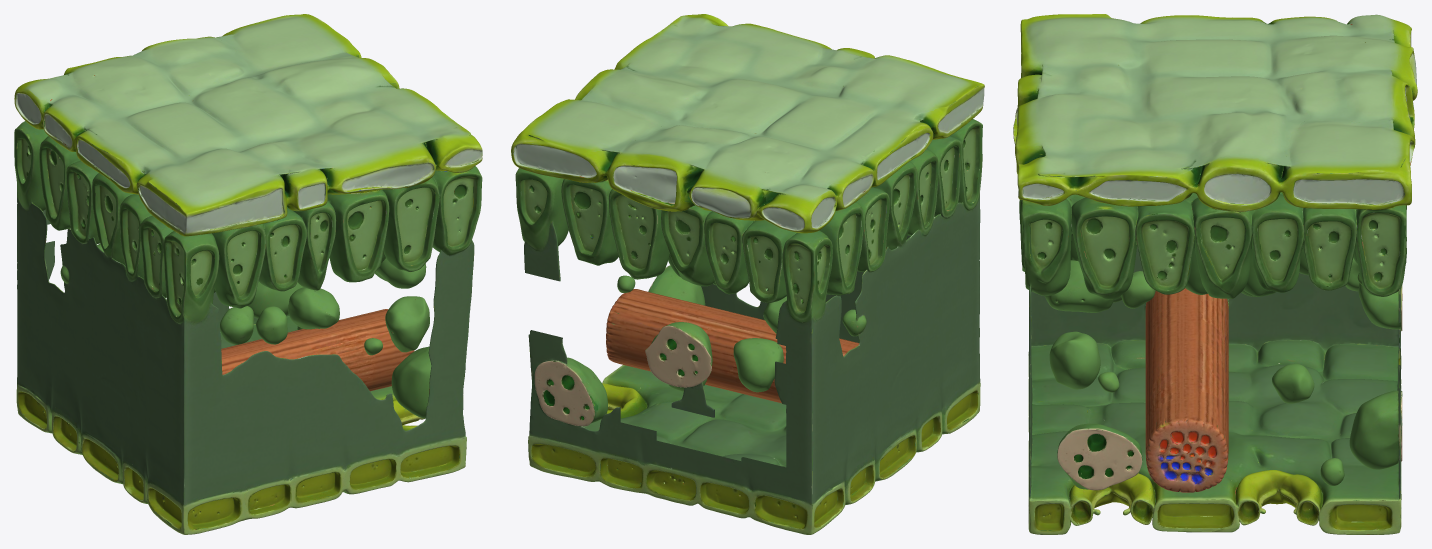
The model's file is Leaf Anatomy.glb.
The picture shows the model from 3 angles, left to right: view 1: azimuth 30°, elevation 25°; view 2: azimuth 150°, elevation 25°; view 3: azimuth 270°, elevation 25°; orthographic projection. The views are drawn at different scales.
Visible parts, largest first — view 1: tripo_part_0, tripo_part_1, tripo_part_2, tripo_part_9, tripo_part_33, tripo_part_10, tripo_part_31, tripo_part_32, tripo_part_8, tripo_part_39, tripo_part_20, tripo_part_41 (+20 smaller); view 2: tripo_part_0, tripo_part_1, tripo_part_3, tripo_part_2, tripo_part_9, tripo_part_4, tripo_part_14, tripo_part_23, tripo_part_15, tripo_part_5, tripo_part_11, tripo_part_13 (+16 smaller); view 3: tripo_part_1, tripo_part_0, tripo_part_2, tripo_part_9, tripo_part_7, tripo_part_18, tripo_part_6, tripo_part_8, tripo_part_17, tripo_part_22, tripo_part_11, tripo_part_16 (+24 smaller).
Part boxes in pixels (box(x1,y1,x2,y2)): tripo_part_0: box(17, 191, 474, 505); tripo_part_1: box(14, 36, 482, 236); tripo_part_2: box(221, 309, 414, 391); tripo_part_9: box(217, 14, 361, 71); tripo_part_33: box(327, 189, 389, 282); tripo_part_10: box(163, 231, 219, 323); tripo_part_31: box(382, 177, 439, 271); tripo_part_32: box(212, 223, 265, 308); tripo_part_8: box(432, 166, 482, 256); tripo_part_39: box(147, 478, 246, 534); tripo_part_20: box(258, 208, 306, 291); tripo_part_41: box(287, 200, 336, 290); tripo_part_0: box(528, 196, 980, 518); tripo_part_1: box(581, 14, 984, 233); tripo_part_3: box(528, 436, 845, 534); tripo_part_2: box(606, 289, 859, 403); tripo_part_9: box(511, 99, 662, 182); tripo_part_4: box(534, 357, 607, 426); tripo_part_14: box(608, 188, 669, 279); tripo_part_23: box(782, 230, 832, 322); tripo_part_15: box(561, 179, 618, 265); tripo_part_5: box(645, 322, 712, 389); tripo_part_11: box(515, 168, 568, 252); tripo_part_13: box(742, 220, 796, 302); tripo_part_1: box(1013, 14, 1417, 206); tripo_part_0: box(1028, 246, 1401, 534); tripo_part_2: box(1145, 288, 1228, 492); tripo_part_9: box(1280, 118, 1414, 209); tripo_part_7: box(1071, 197, 1137, 299); tripo_part_18: box(1190, 197, 1253, 298); tripo_part_6: box(1135, 200, 1194, 294); tripo_part_8: box(1019, 198, 1071, 295); tripo_part_17: box(1057, 423, 1142, 490); tripo_part_22: box(1251, 192, 1303, 292); tripo_part_11: box(1355, 205, 1406, 296); tripo_part_16: box(1195, 155, 1283, 212).
Bounding box in the file's own units: 0.9136 × 1 × 0.9594.
96 materials, 96 textured.
